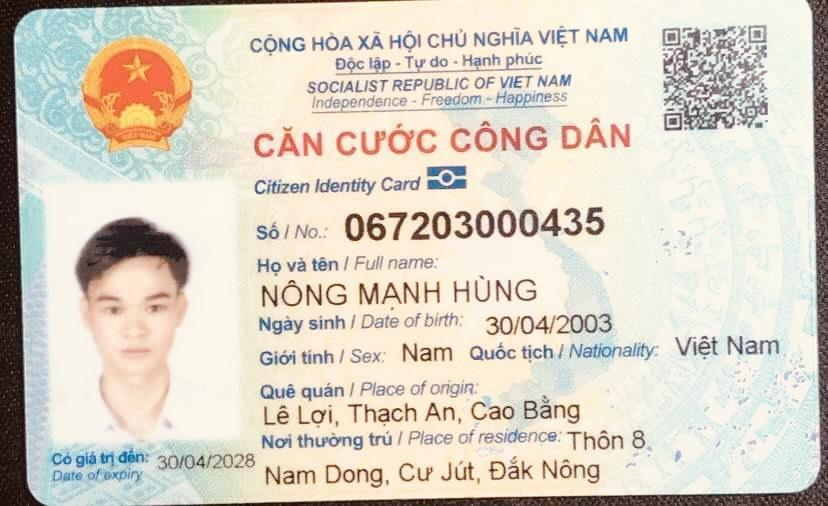ID: (342, 200, 628, 252)
birth: (478, 305, 624, 341)
name: (254, 272, 554, 313)
place: (253, 395, 586, 432)
residence: (253, 454, 608, 496), (559, 424, 657, 457)
